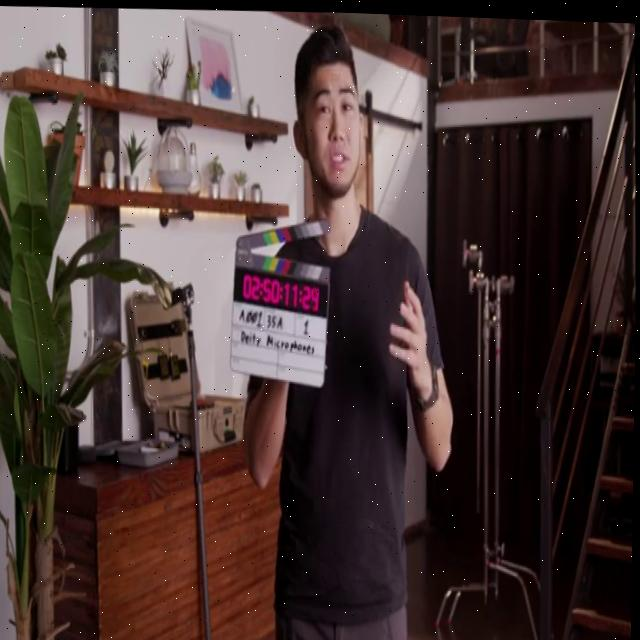Clapperboard: (231, 222, 331, 388)
